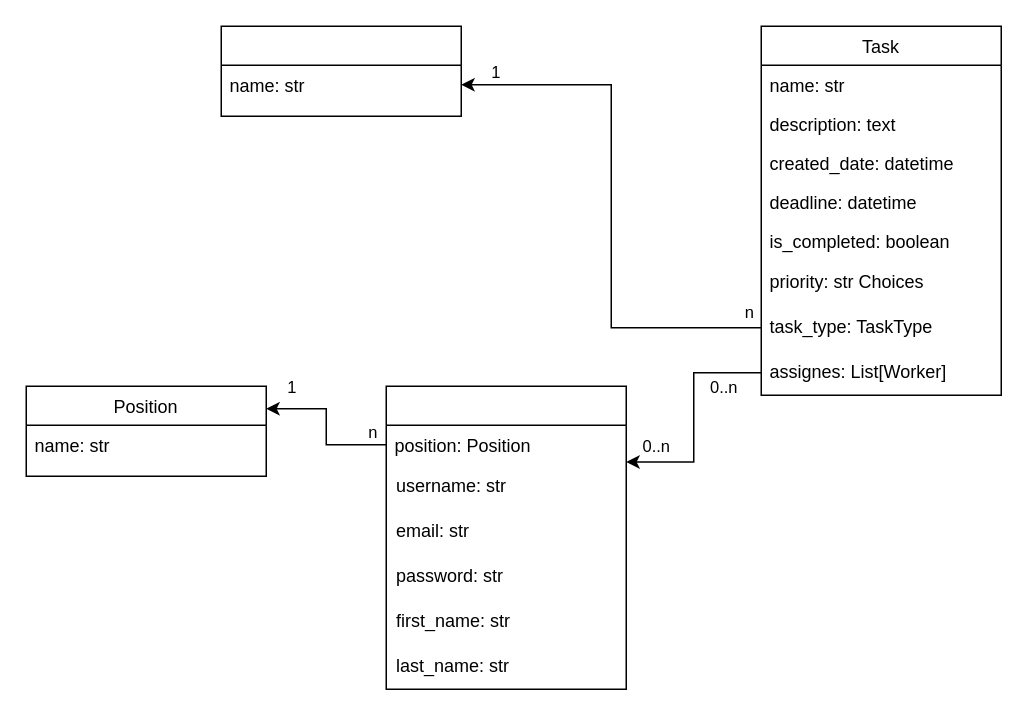
The diagram is 1028 pixels wide and 716 high, and some of its shapes have lost their labels. The box of each missing label's shape, as (x1, y1, x2, y2) in pixels:
TaskType: (220, 25, 461, 116)
Worker(AbstractUser): (385, 385, 626, 689)
